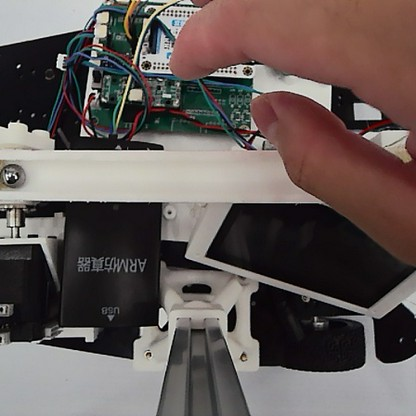ironball: (0, 160, 27, 191)
